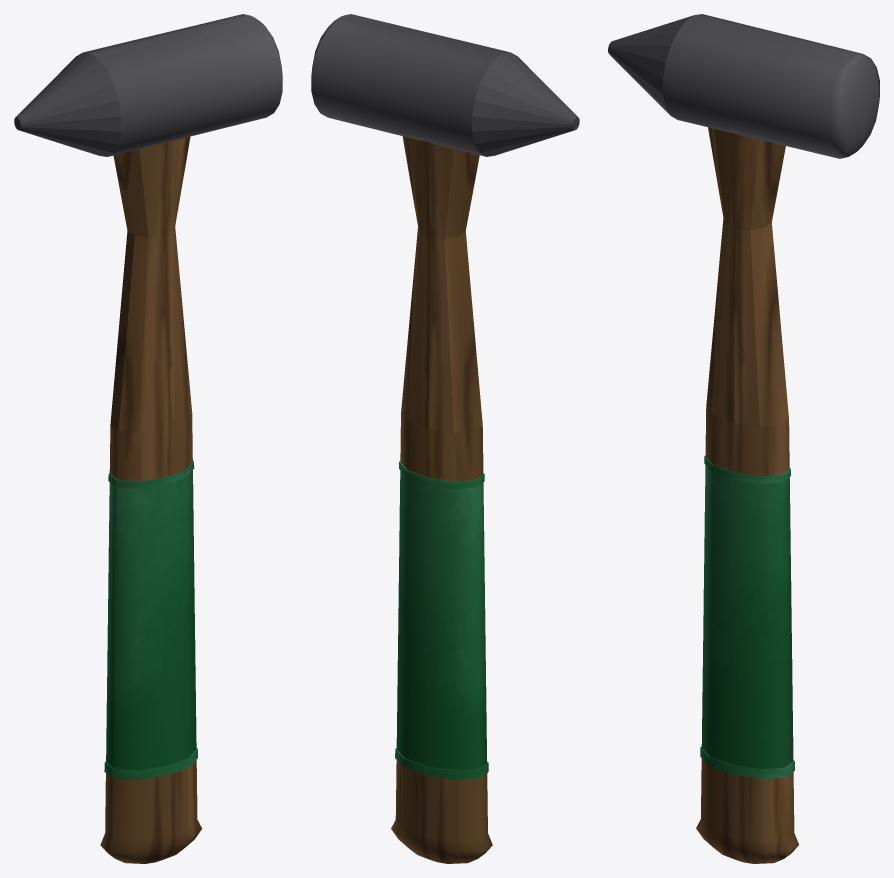
Rendered from Hammer1.fbx.
3 views of the same model, side by side, from view 1: azimuth 30°, elevation 25°; view 2: azimuth 150°, elevation 25°; view 3: azimuth 330°, elevation 25° (orthographic).
Parts seen in each view (by area): view 1: Hammer_5; view 2: Hammer_5; view 3: Hammer_5.
Part boxes in pixels (x1,y1,x2,y2): Hammer_5: (14,14,282,863); Hammer_5: (311,14,579,863); Hammer_5: (608,14,879,863).
Size of the model in its own units: 12.51 by 38.86 by 4.56.
Materials: 1 (1 with a texture image).
